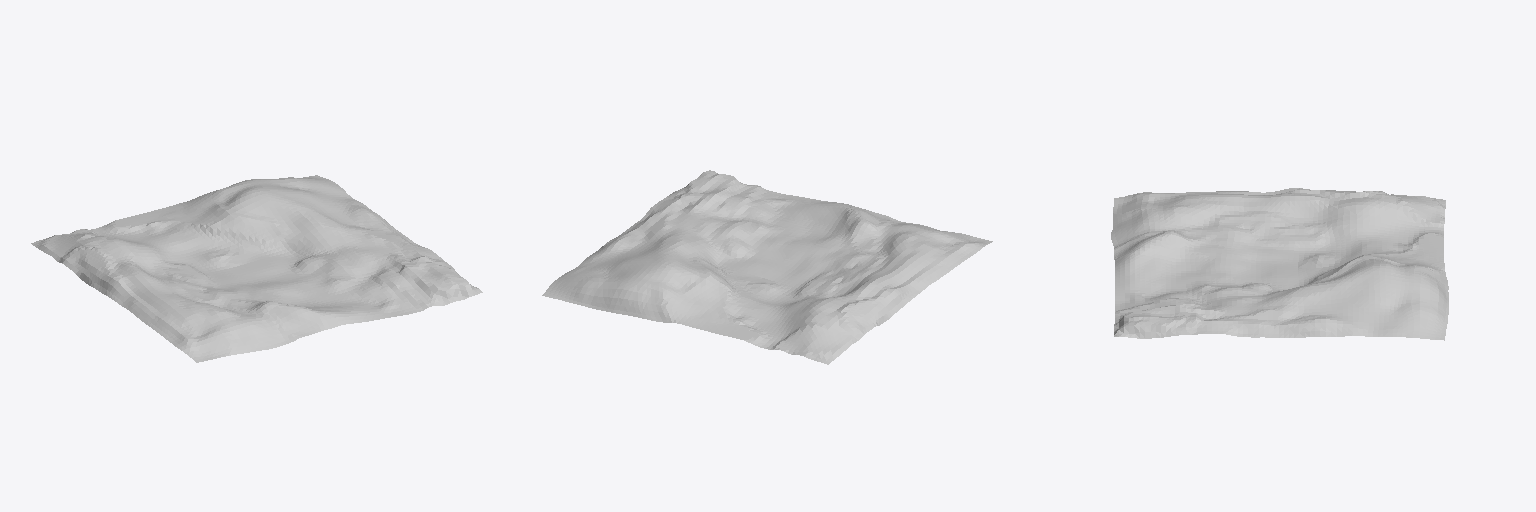
File: SnowTerrain.obj
3 views of the same model, side by side, from view 1: azimuth 30°, elevation 25°; view 2: azimuth 150°, elevation 25°; view 3: azimuth 270°, elevation 25° (orthographic).
Visible parts, largest first — view 1: Plane_Plane.002; view 2: Plane_Plane.002; view 3: Plane_Plane.002.
Part boxes in pixels (x1,y1,x2,y2): Plane_Plane.002: (31, 175, 482, 362); Plane_Plane.002: (542, 170, 992, 364); Plane_Plane.002: (1111, 188, 1448, 340).
Size of the model in its own units: 63.5 by 6.28 by 63.96.